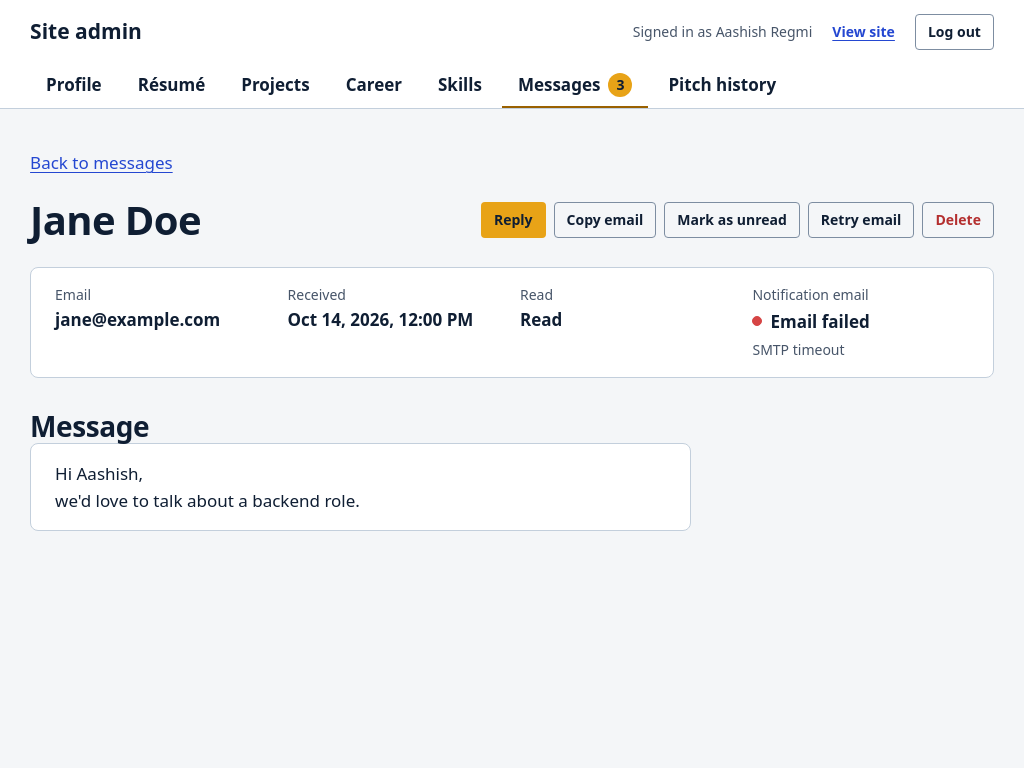
Messages: detail › offers Retry only for failed emails and shows the new pending status
The image size is (1024, 768).
Check: the heading "Jane Doe" is shown, box [30,197,201,243]
Check: the text "Email failed" is shown, box [752,308,870,335]
What coordinates should you click on to do the following:
click the button "Retry email"
I would click on:
 (861, 220)
Its box is [808,202,914,238].
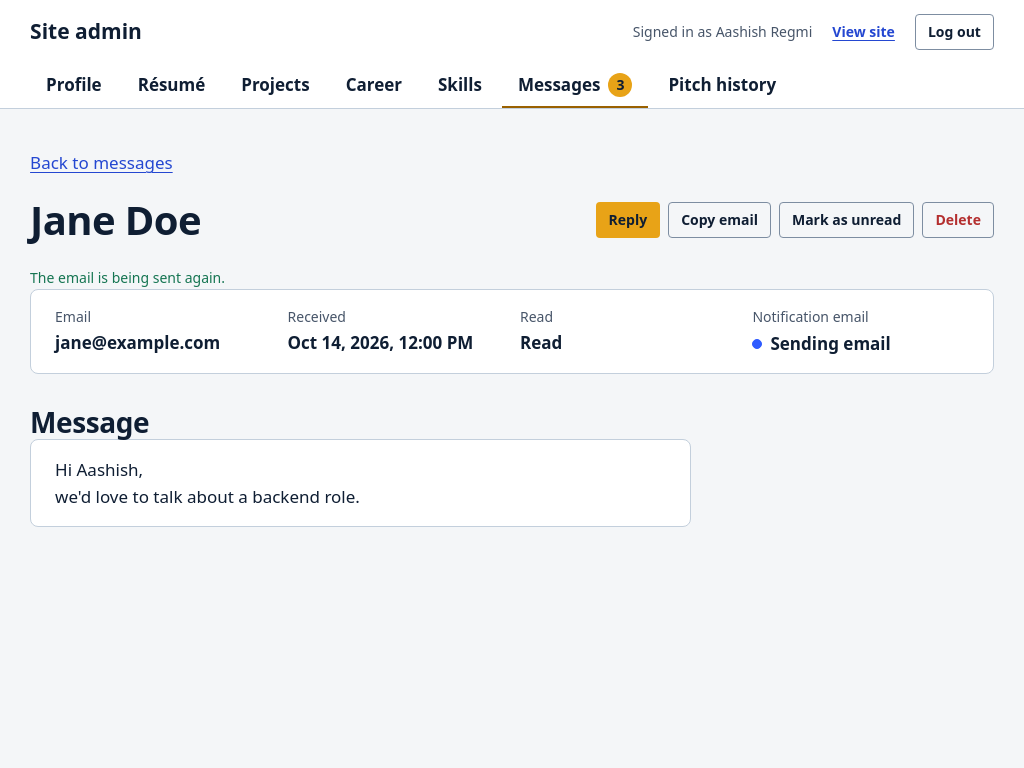
Check: the text "Sending email" is shown, box [752,330,891,357]
Check: the text "SMTP timeout" is gone
Check: the button "Retry email" is gone
